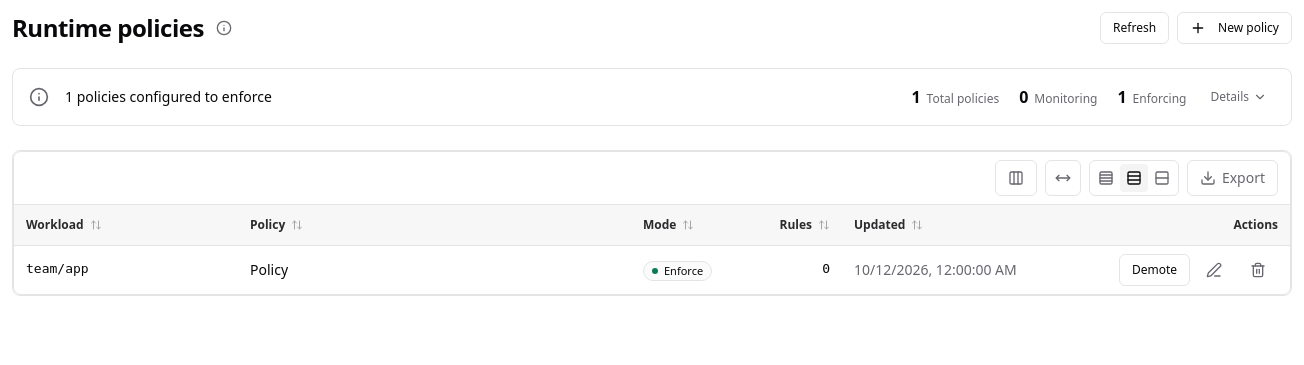
shows a demotion failure instead of silently leaving the row unchanged
Check: the element with test id "runtime-policy-row-policy" is shown, box [1119,254,1278,286]
Click the button with test id "runtime-policy-demote-policy" at (1154, 270), box [1119,254,1190,286]
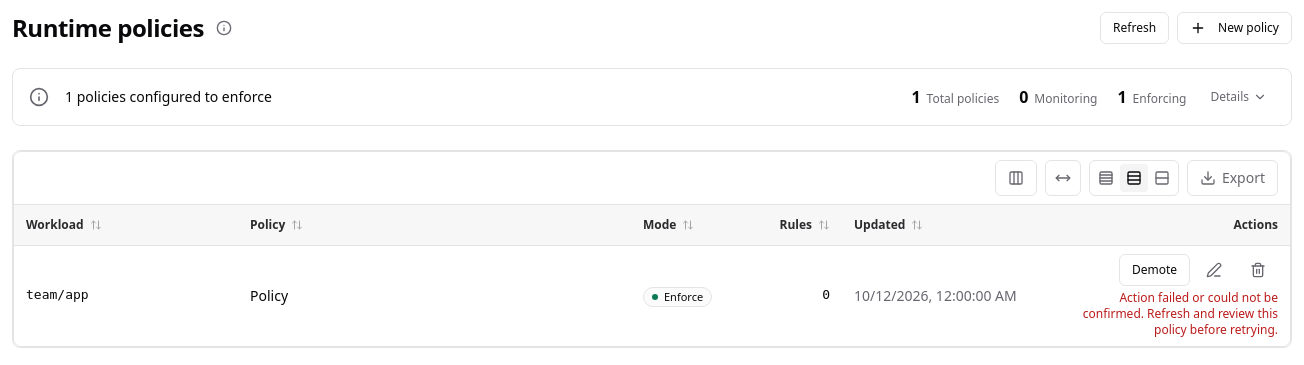
Check: the text "Action failed" is shown, box [1083,288,1278,338]
